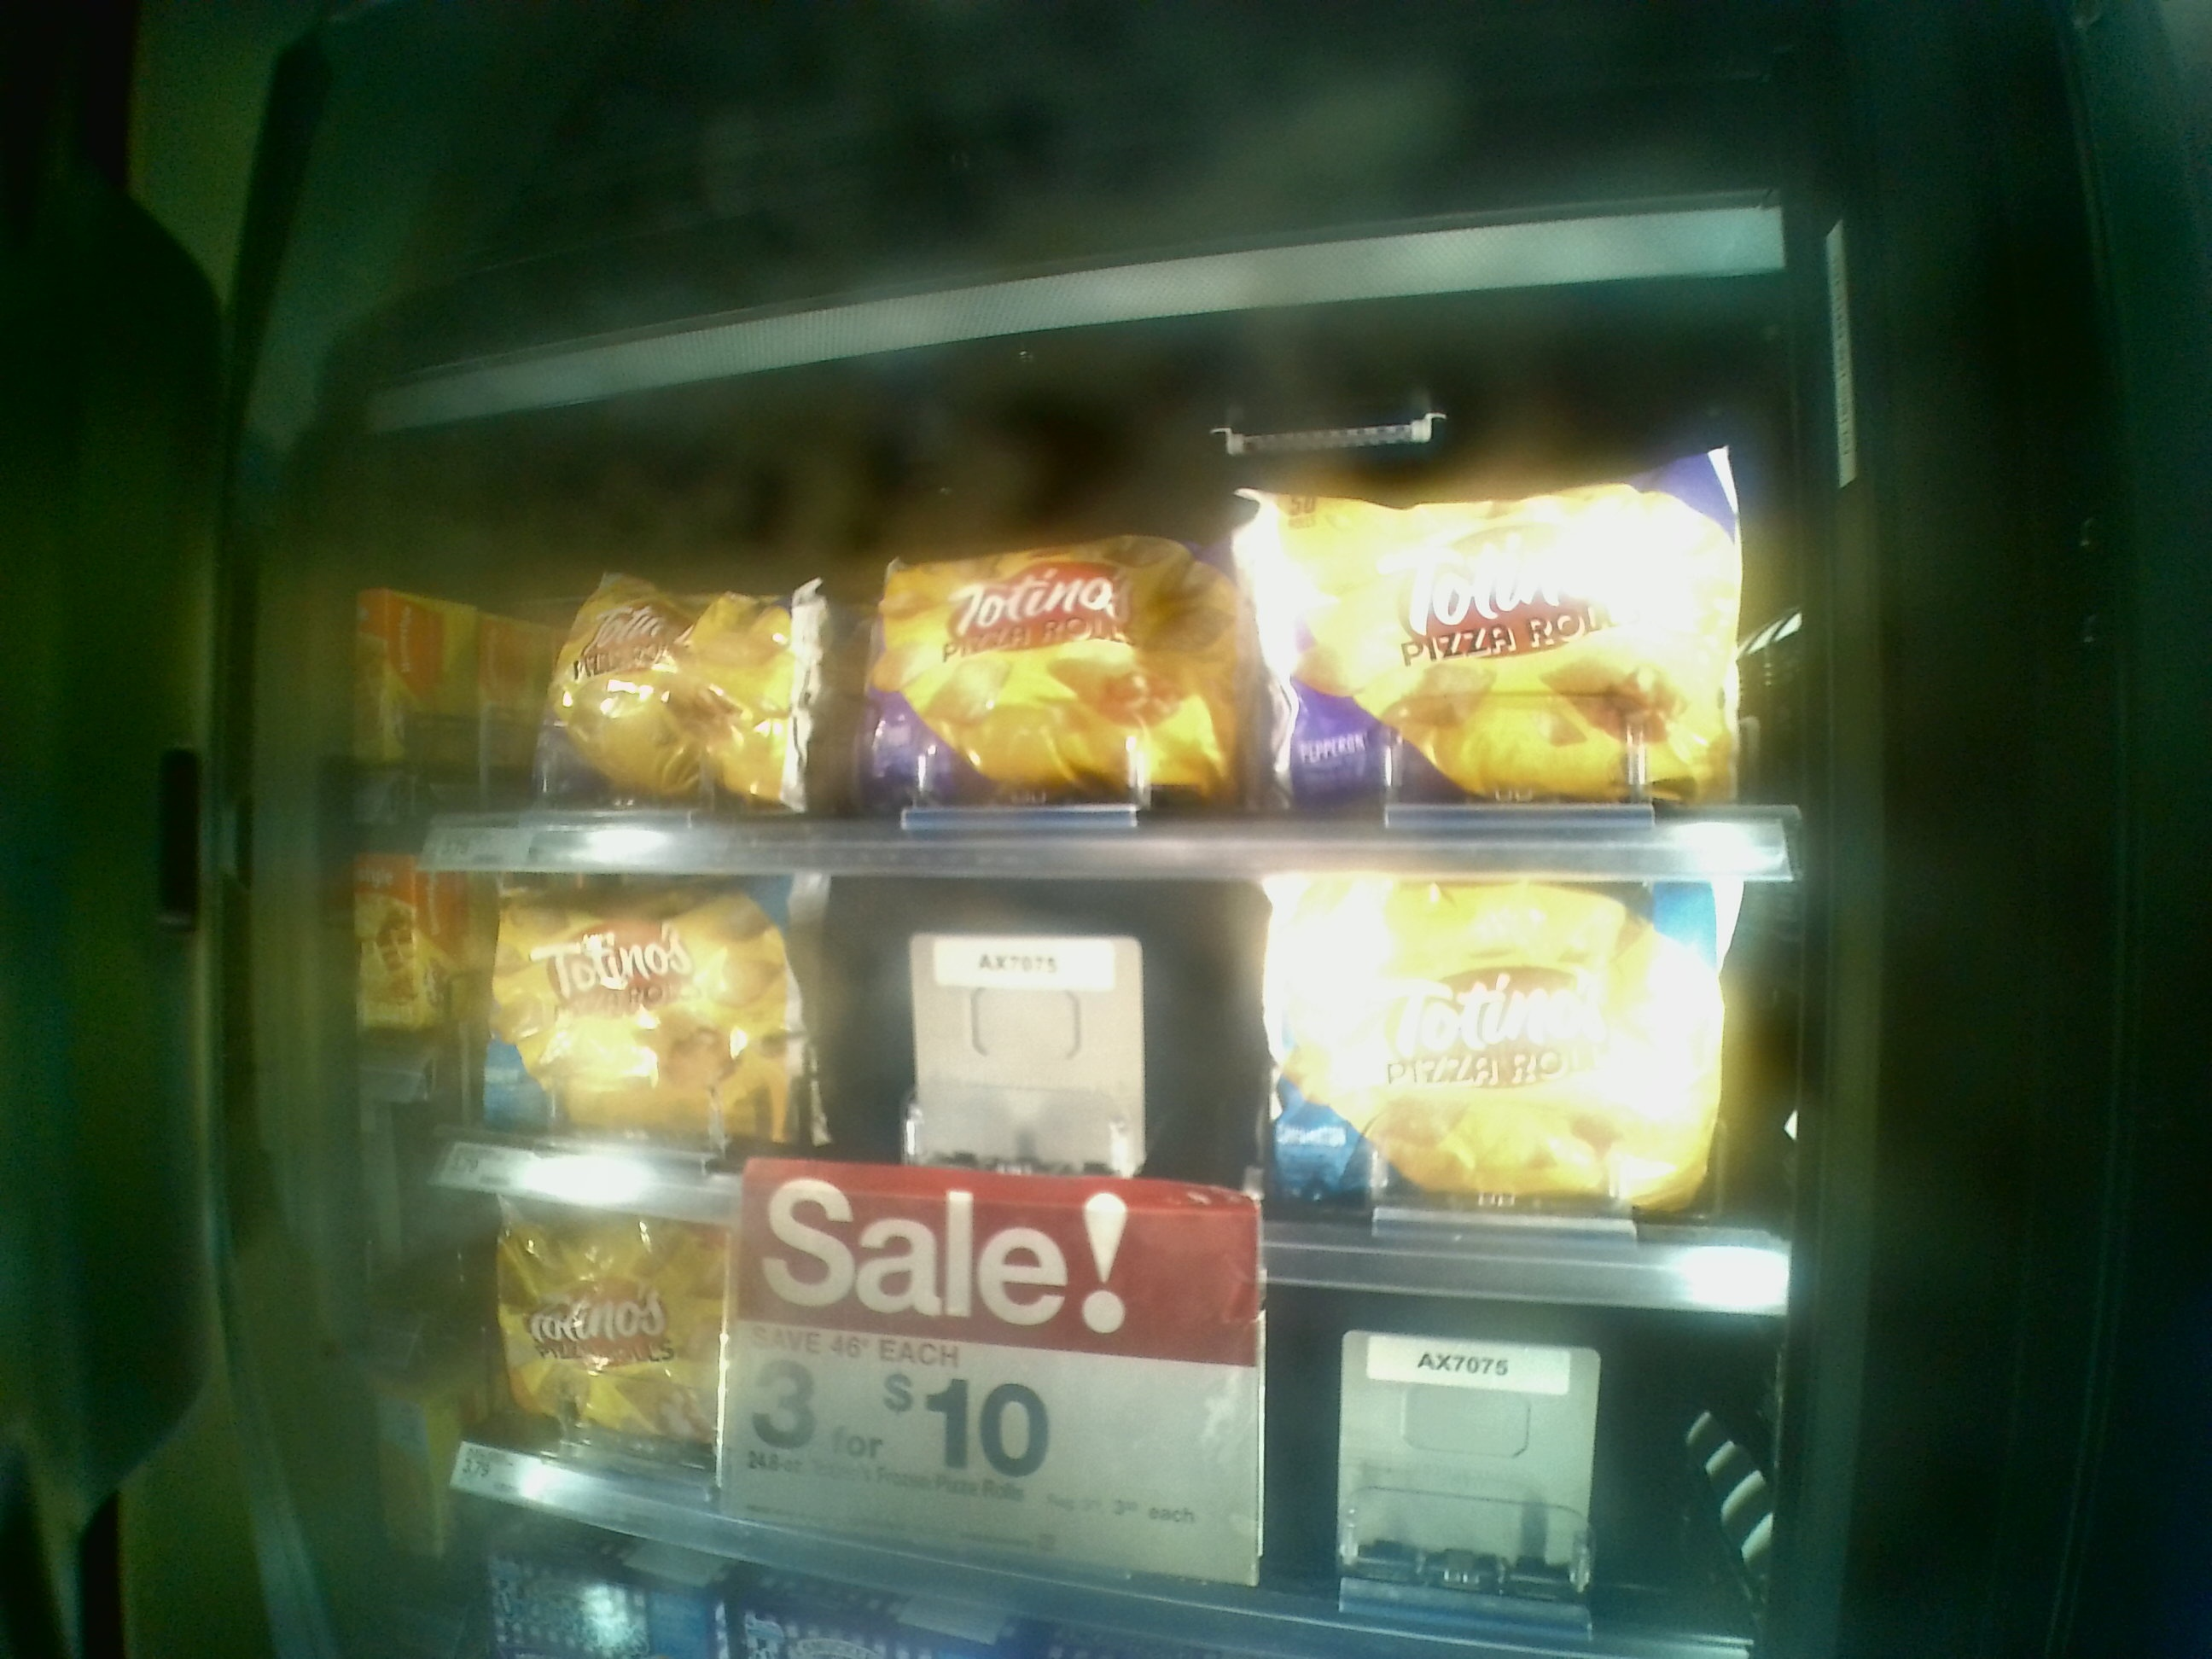shelf: (404, 885, 1778, 1323), (385, 497, 1787, 882)
